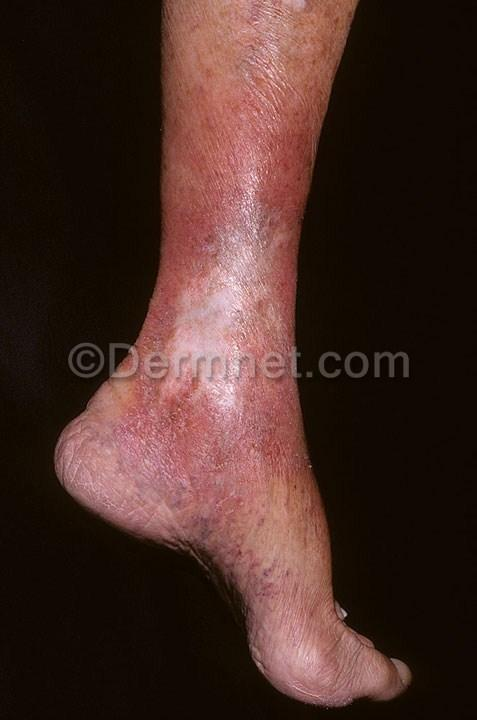Eczema: (149, 281, 250, 371), (159, 186, 245, 276), (227, 374, 289, 474), (244, 35, 338, 100), (178, 28, 253, 106), (248, 171, 309, 265), (166, 368, 230, 455), (241, 94, 312, 172), (272, 455, 334, 538), (255, 553, 324, 625), (175, 106, 237, 185), (118, 368, 168, 462), (170, 448, 239, 509), (253, 266, 300, 350), (113, 459, 177, 518), (226, 472, 281, 536), (226, 541, 274, 607), (252, 0, 337, 36), (177, 507, 231, 562), (246, 352, 294, 378)
